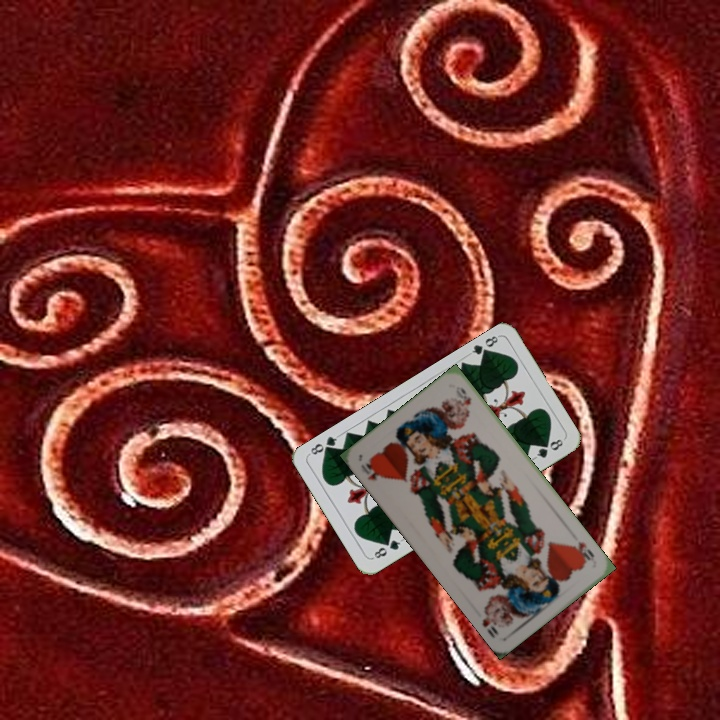G8: (465, 331, 502, 361), (369, 535, 405, 561)
HO: (569, 537, 597, 565), (357, 456, 385, 483)
